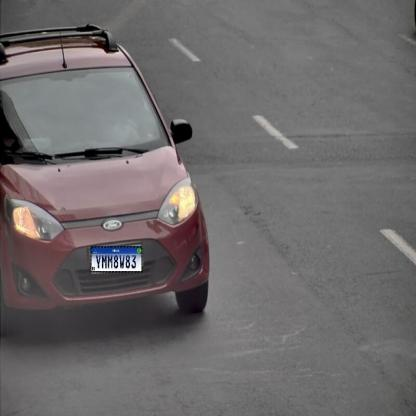PlacaM: (90, 246, 142, 273)
